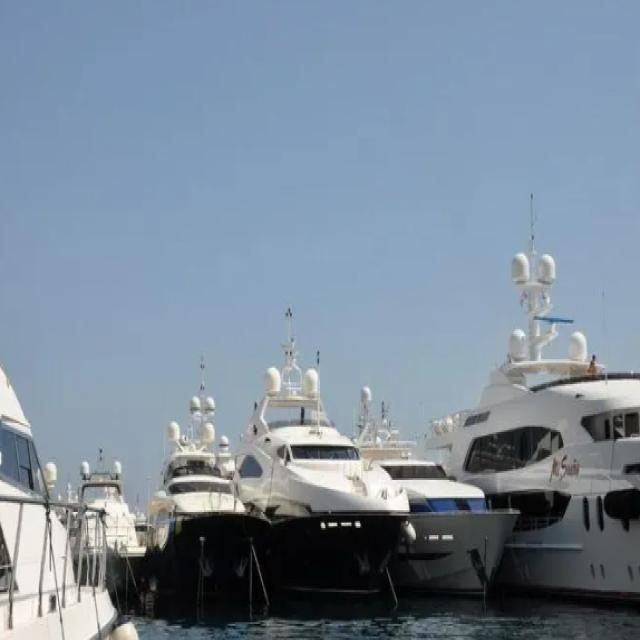houseboat: (426, 304, 640, 604), (240, 318, 406, 580), (351, 376, 515, 591), (154, 369, 261, 606), (65, 446, 147, 582)
